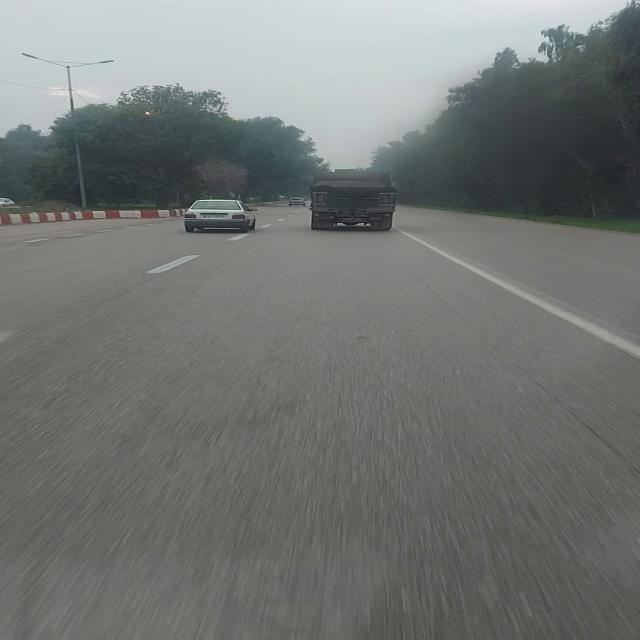Car: (181, 199, 259, 235), (0, 197, 17, 209), (287, 197, 307, 207)
Truck: (306, 168, 398, 232)
